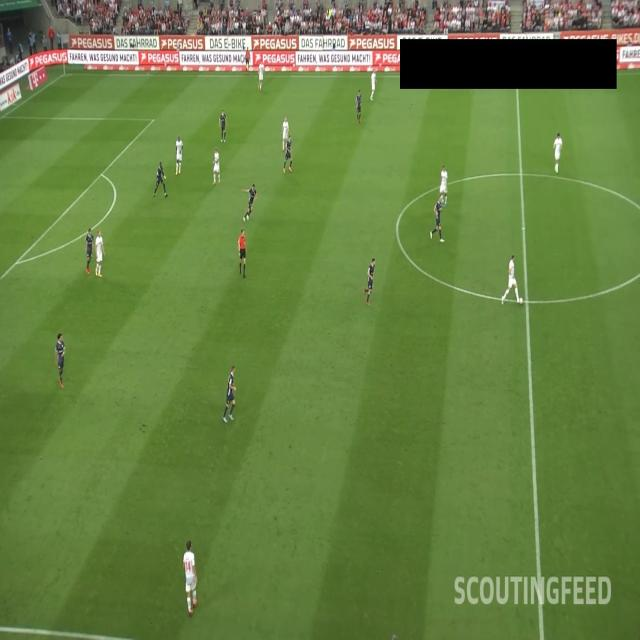ball: (519, 297, 523, 305)
